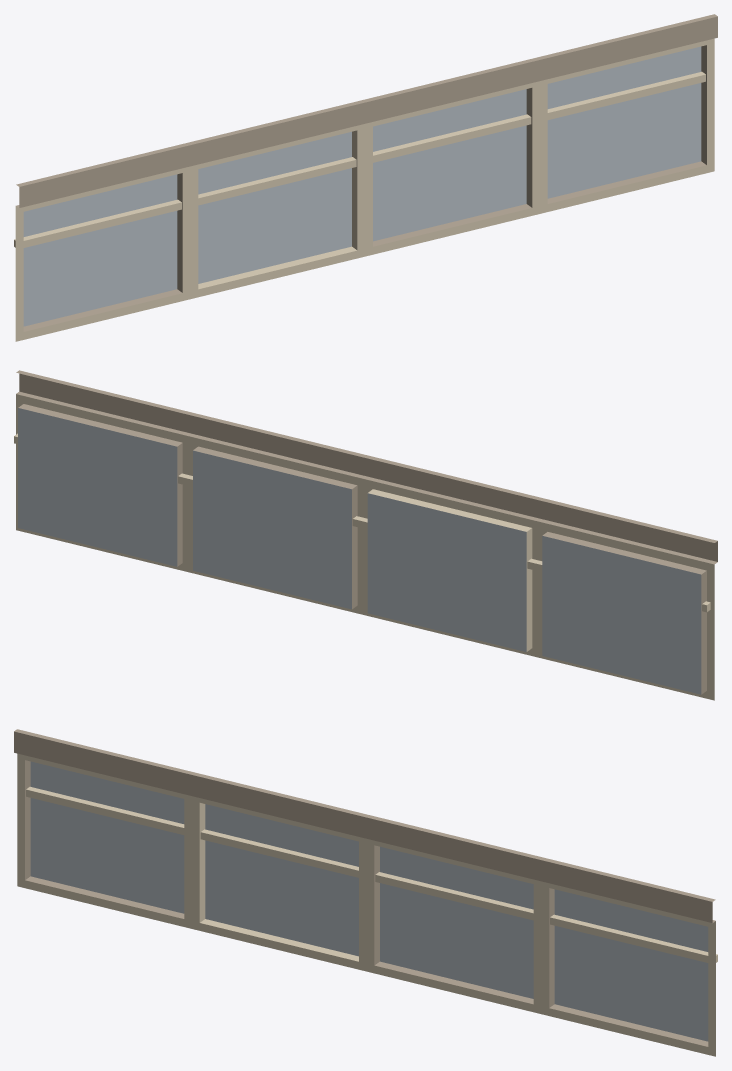
File: fbx_building_1_firstfloor.fbx
3 renders of one model, top to bottom at view 1: azimuth 30°, elevation 25°; view 2: azimuth 150°, elevation 25°; view 3: azimuth 330°, elevation 25°, orthographic.
Parts seen in each view (by area): view 1: fbx_building_1_firstfloor; view 2: fbx_building_1_firstfloor; view 3: fbx_building_1_firstfloor.
Boxes of the visible parts, x1,y1,x2,y2 form: fbx_building_1_firstfloor: [14, 14, 717, 341]; fbx_building_1_firstfloor: [14, 370, 717, 700]; fbx_building_1_firstfloor: [14, 729, 717, 1056].
Bounding box in the file's own units: 4.29 × 0.9229 × 0.0938.
2 materials, 1 textured.
